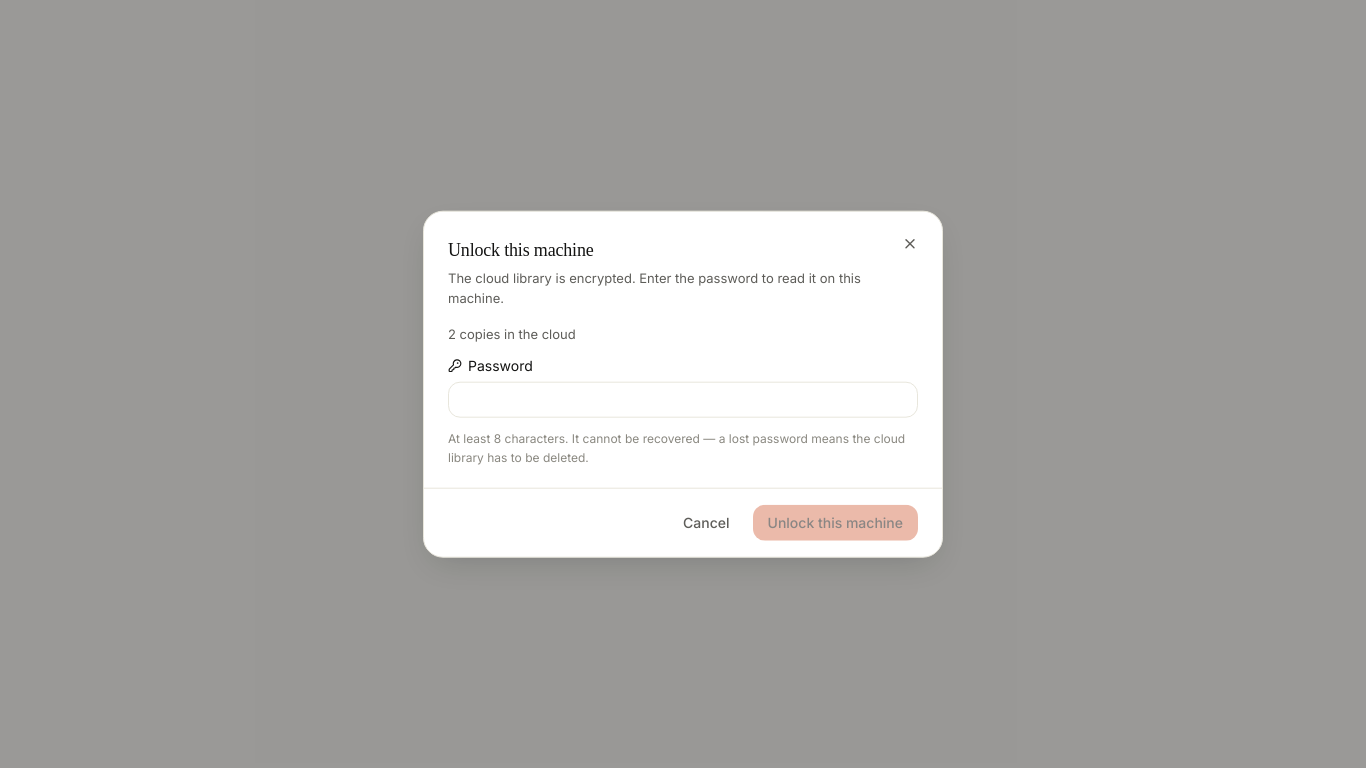
SyncEncryptionDialog › says so in the dialog when the password does not open the library
In the password field labelled "Password": [683, 400] box [448,382,918,418], type "the wrong password"
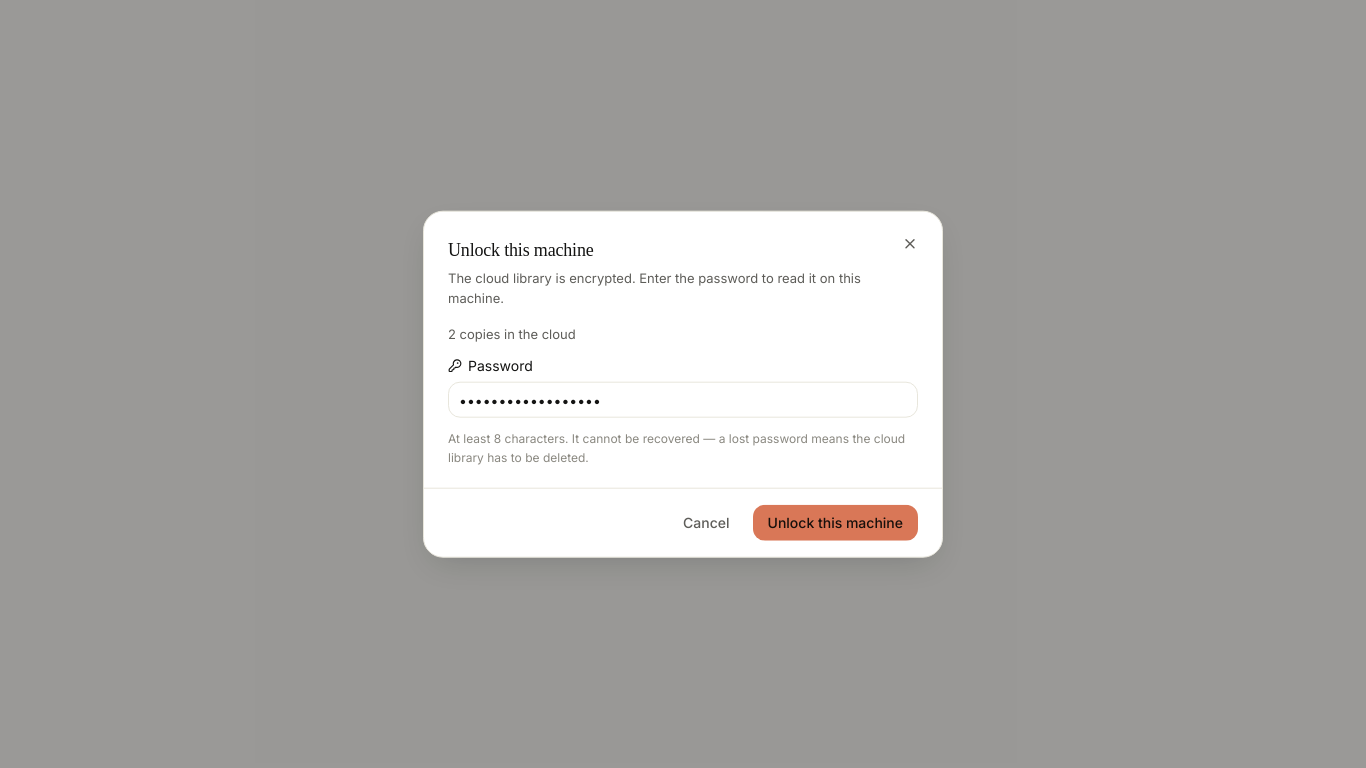
Click the button "Unlock this machine": [835, 522] box [752,504,918,540]
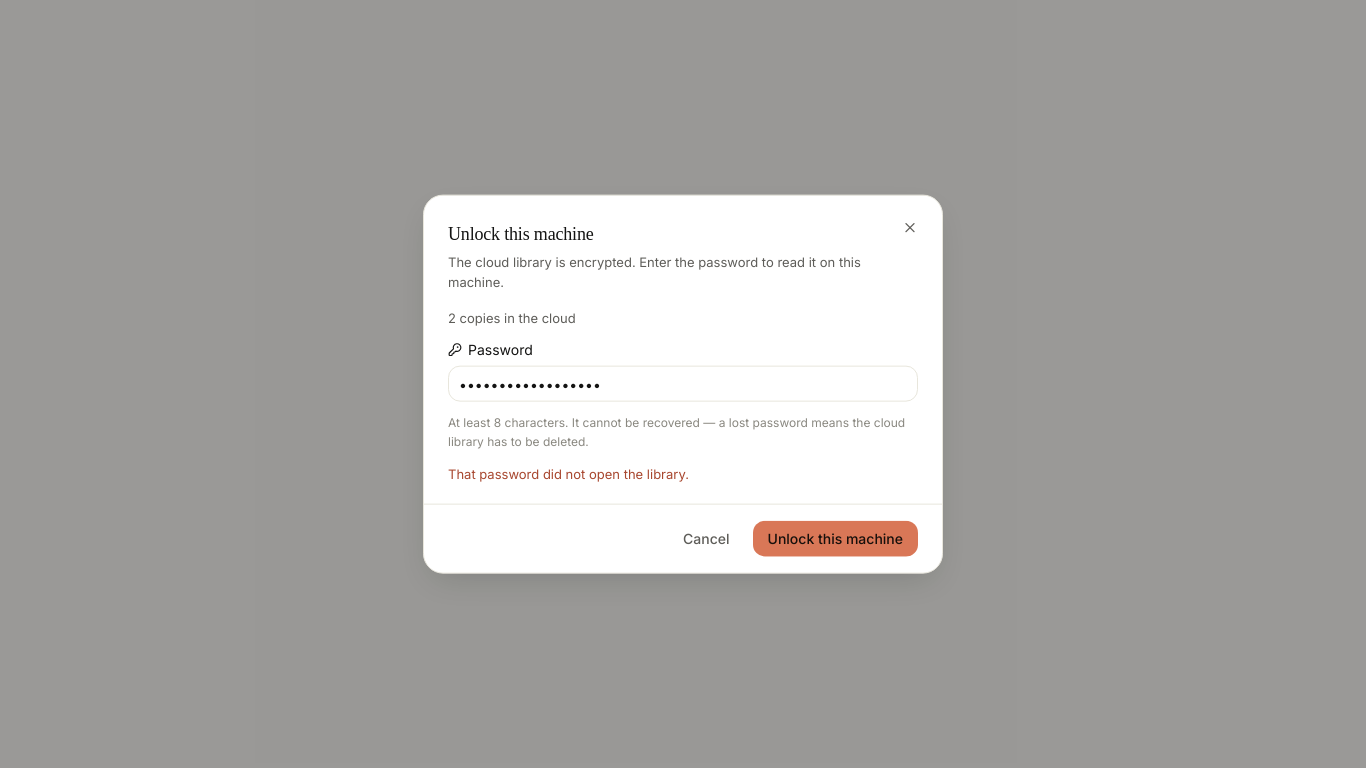
Expected: the message reads "That password did not open the library.", [448,465,689,481]
